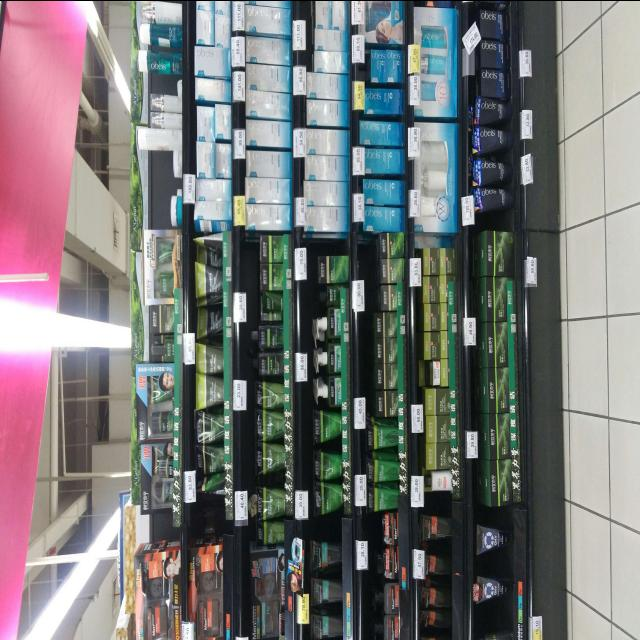empty_space: (481, 548, 514, 581), (484, 598, 512, 633), (195, 497, 227, 527), (311, 517, 340, 540)
